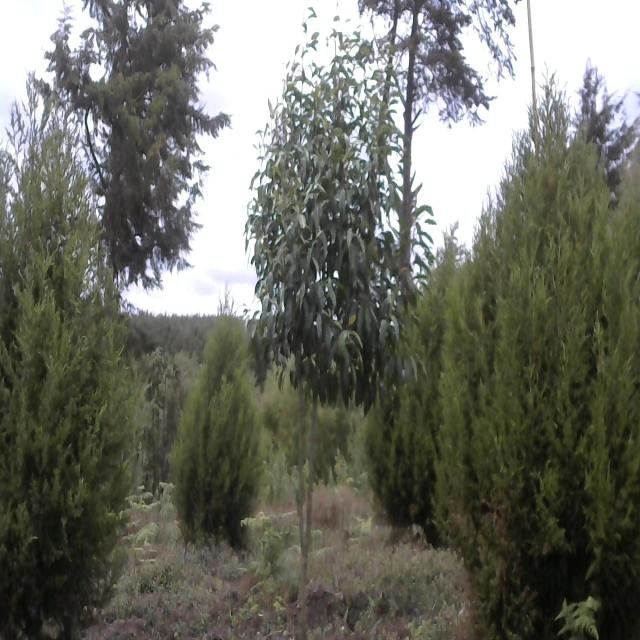Juniperus procesera: (444, 74, 640, 640), (0, 80, 147, 640), (45, 0, 234, 284), (368, 233, 478, 558), (175, 298, 271, 570)
Olea welwitchii: (241, 23, 398, 615)
